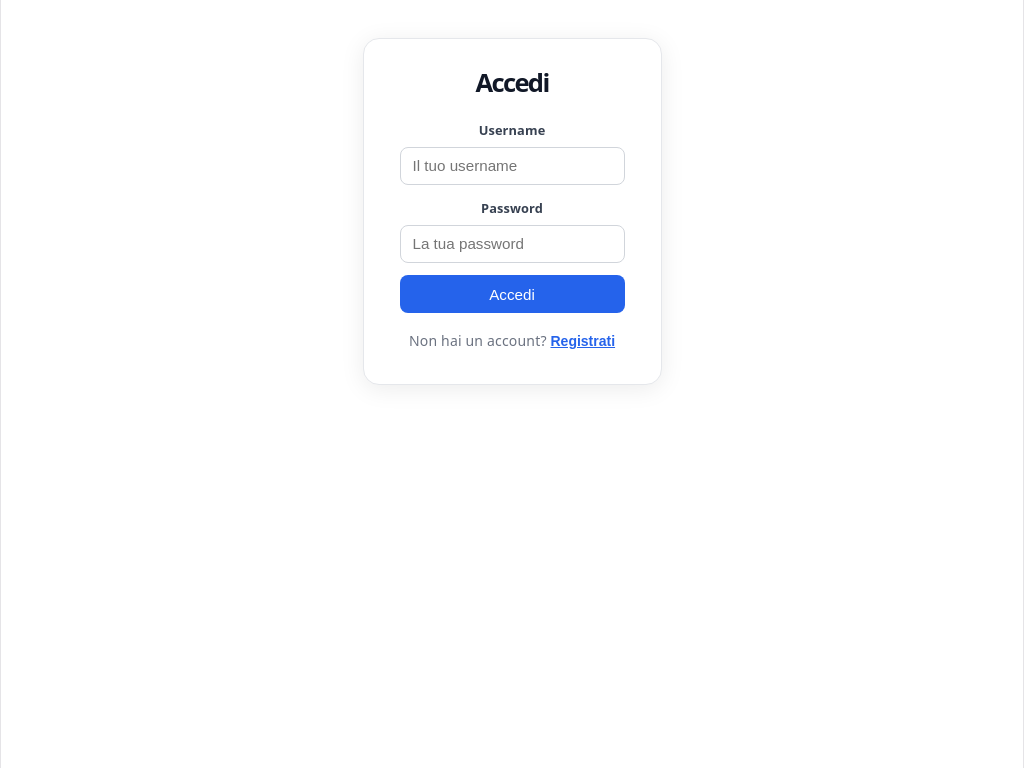
auth screen (no user) › switches to register mode and reveals the email field
Click the button "Registrati".
click(583, 341)  # box [550,333,615,349]
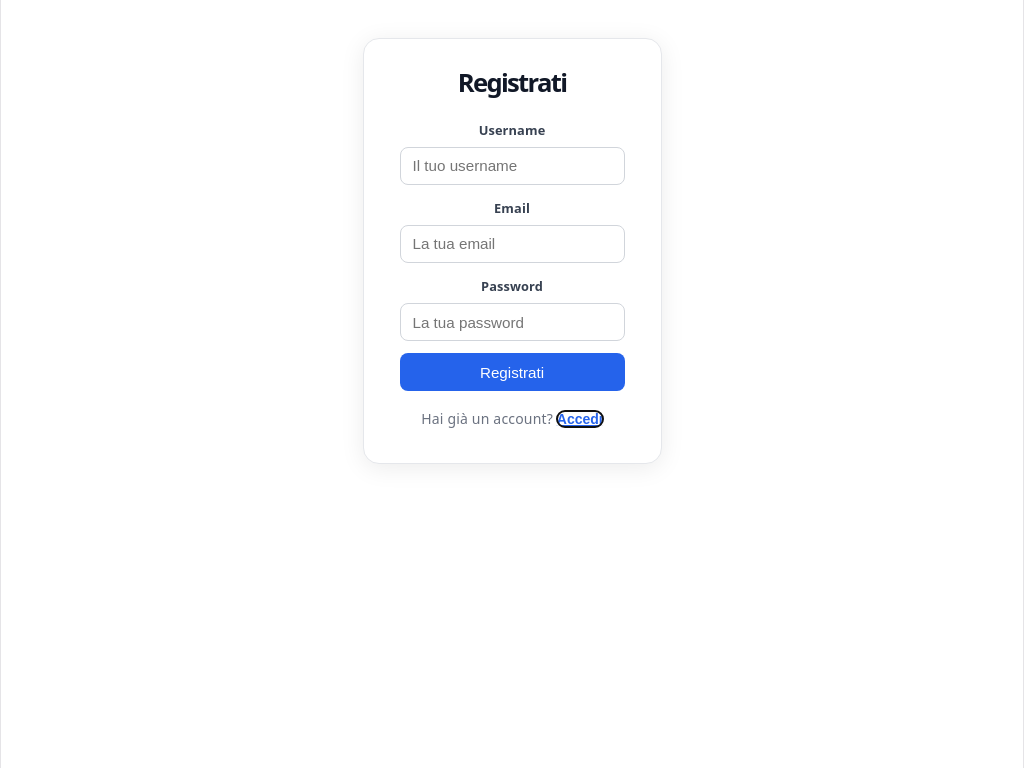
Now the heading "Registrati" is shown, box [458,65,566,100]
Now the field labelled "Email" is shown, box [400,225,624,263]
